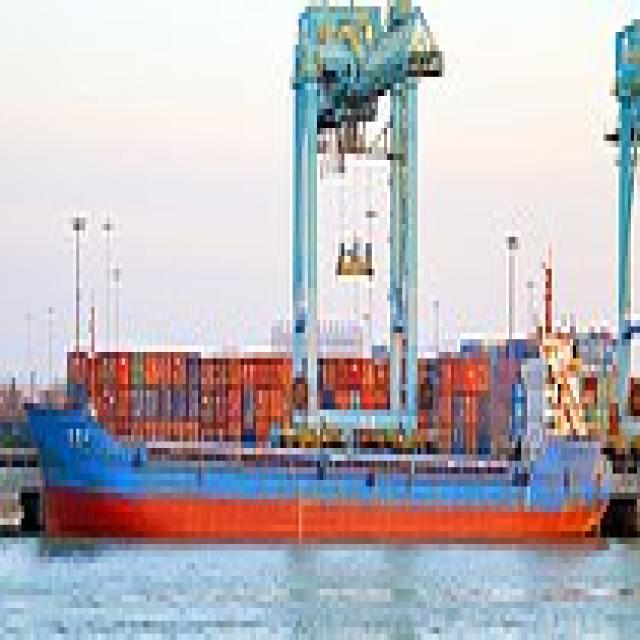Cargo: (18, 314, 613, 544)
